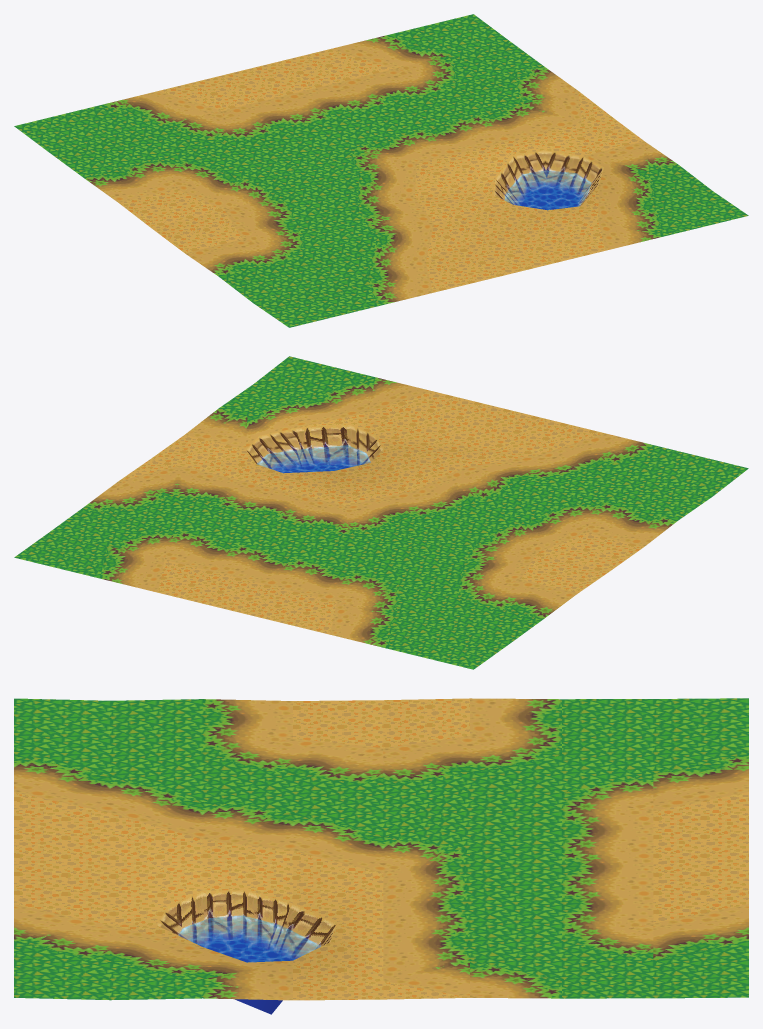
Rendered from c_grd_f_5.001.glb.
3 views of the same model, one above another, from view 1: azimuth 30°, elevation 25°; view 2: azimuth 150°, elevation 25°; view 3: azimuth 270°, elevation 25° (orthographic). The views are drawn at different scales.
Visible parts, largest first — view 1: c_grd_f_5.001; view 2: c_grd_f_5.001; view 3: c_grd_f_5.001.
Part boxes in pixels (x1,y1,x2,y2): c_grd_f_5.001: [14, 14, 748, 327]; c_grd_f_5.001: [14, 356, 748, 669]; c_grd_f_5.001: [14, 698, 748, 1014].
Bounding box in the file's own units: 32 × 4.18 × 33.2.
Materials: 5 (5 with a texture image).
